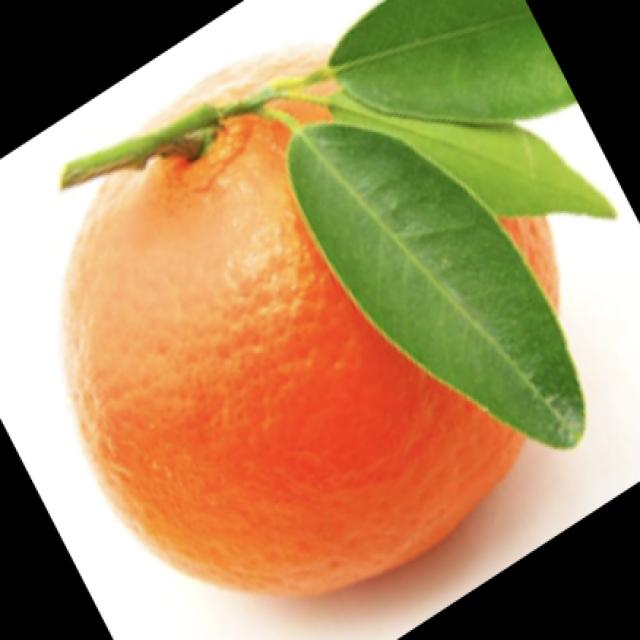orange: (66, 53, 608, 625)
